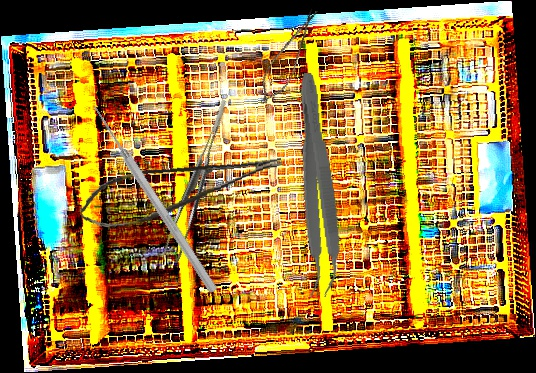Micro Scissor: (76, 149, 288, 235), (252, 3, 325, 110)
Pusher: (87, 101, 221, 295)
Tissue Forceps: (147, 99, 253, 263), (284, 71, 346, 299)
